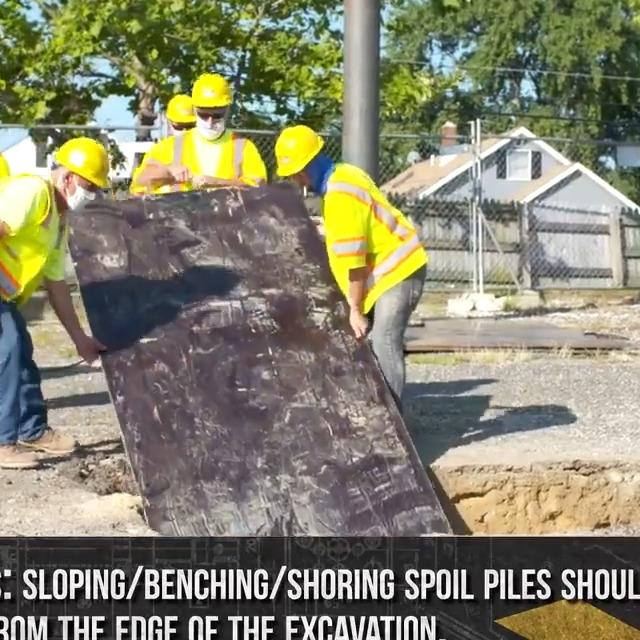Hardhat: (274, 125, 328, 176), (53, 137, 109, 186), (192, 72, 235, 108), (167, 94, 197, 125)
Mask: (63, 175, 95, 213), (195, 115, 228, 141), (171, 128, 186, 137)
Person: (275, 124, 430, 421), (0, 135, 108, 470), (137, 71, 267, 195), (133, 96, 194, 192)
Safety Vest: (324, 165, 429, 308), (0, 170, 63, 305), (164, 132, 264, 189)
